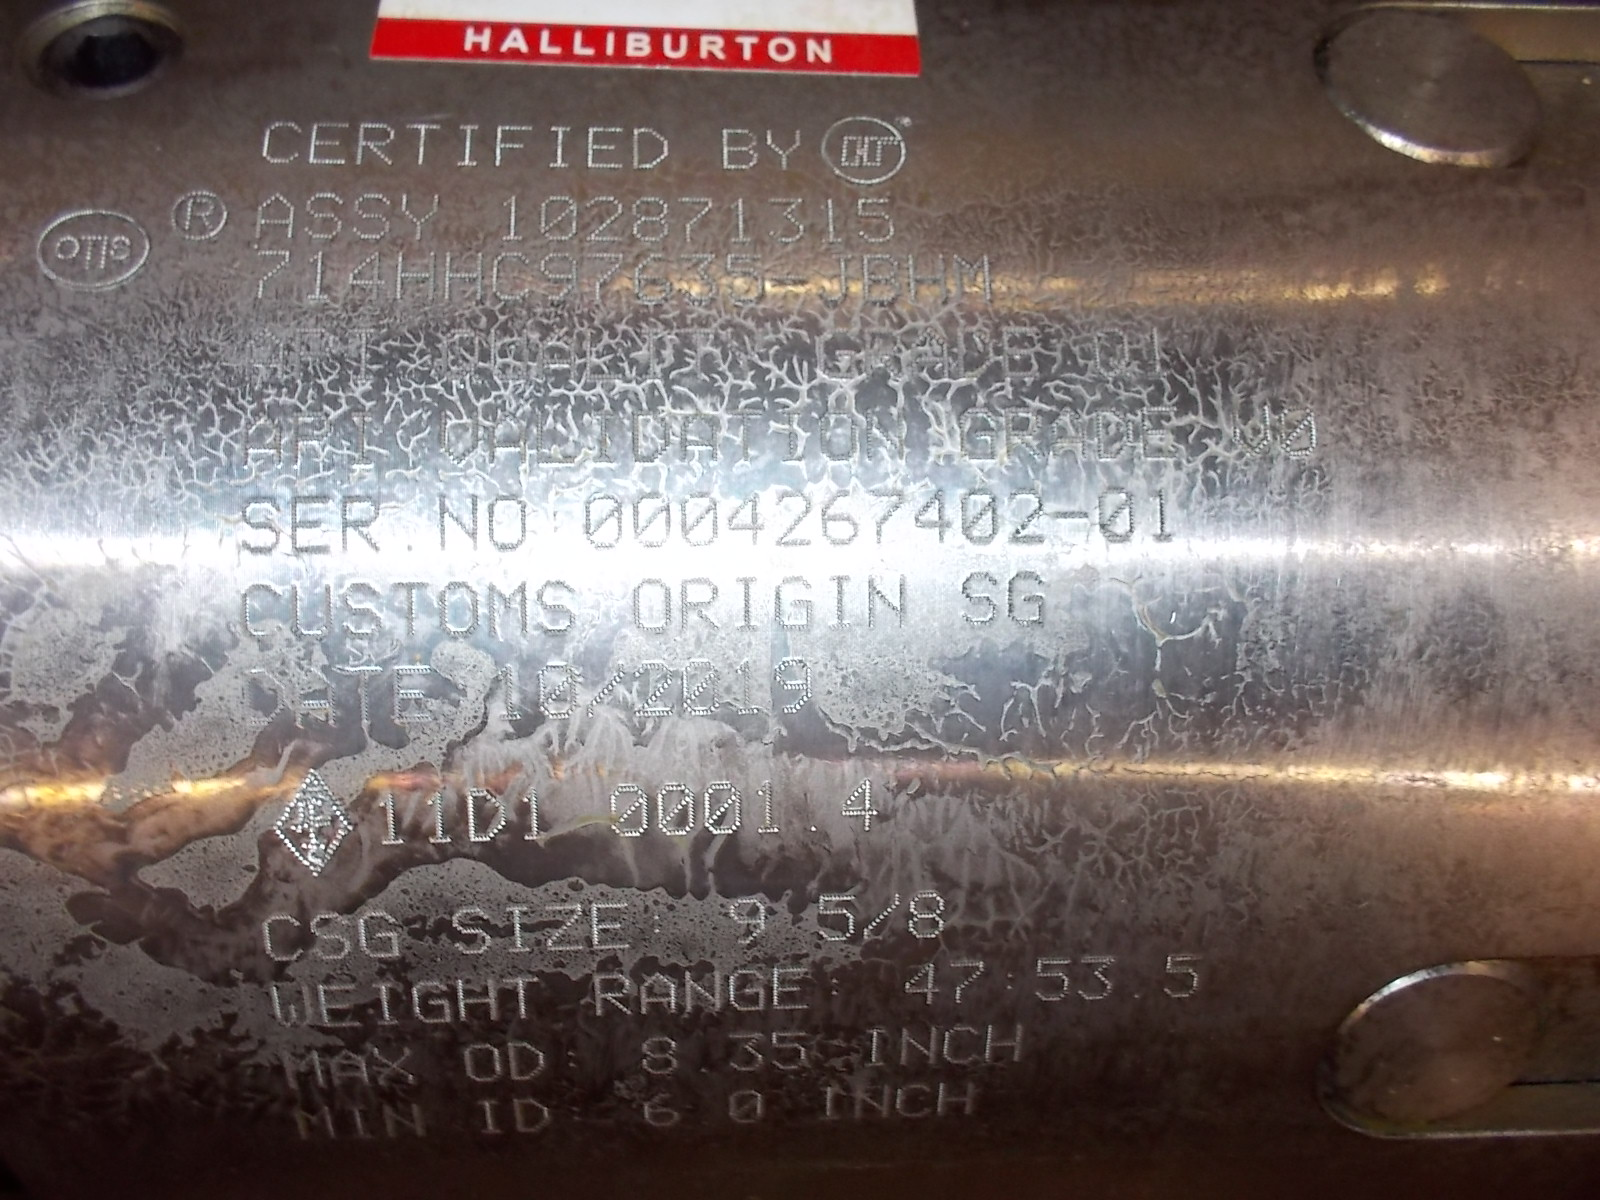character: (528, 655, 585, 729), (285, 488, 336, 563), (231, 492, 285, 563), (1133, 395, 1186, 468), (765, 567, 821, 635), (238, 321, 292, 392), (454, 784, 515, 846), (386, 661, 438, 731), (236, 575, 282, 653), (1002, 566, 1054, 634), (627, 658, 677, 731), (335, 661, 386, 731), (530, 405, 583, 471), (233, 663, 286, 730), (430, 401, 481, 469), (334, 575, 386, 643), (282, 575, 334, 643), (997, 318, 1049, 383), (289, 406, 341, 471), (627, 570, 677, 640), (292, 323, 341, 392), (677, 571, 726, 640), (767, 650, 816, 720), (484, 320, 537, 384), (670, 321, 721, 388), (674, 407, 729, 468), (583, 655, 627, 731), (386, 575, 437, 639), (1094, 480, 1141, 550), (236, 405, 286, 470), (289, 661, 335, 731), (813, 403, 862, 470), (860, 567, 913, 629), (336, 488, 384, 556), (485, 572, 533, 640), (580, 321, 631, 384), (483, 492, 534, 555), (1003, 483, 1049, 552), (437, 904, 494, 961), (247, 247, 302, 305), (1089, 324, 1141, 384), (580, 488, 627, 555), (437, 572, 485, 639), (957, 562, 1002, 634), (260, 979, 317, 1034), (907, 483, 955, 548), (955, 483, 1003, 548), (1157, 945, 1209, 1005), (622, 407, 674, 468), (860, 483, 907, 550), (587, 890, 632, 958), (481, 405, 529, 469), (532, 901, 586, 958), (396, 187, 449, 245), (862, 405, 908, 470), (700, 774, 747, 839), (769, 488, 819, 548), (677, 658, 727, 718), (603, 780, 654, 841), (721, 250, 769, 313), (906, 321, 954, 384), (954, 403, 1002, 466), (1230, 400, 1276, 464), (673, 490, 723, 550), (626, 248, 675, 309), (809, 321, 858, 382), (433, 489, 483, 550), (484, 659, 527, 729), (1276, 397, 1320, 464), (389, 248, 443, 303), (273, 1040, 328, 1094), (351, 913, 406, 967), (837, 775, 886, 834), (585, 966, 634, 1025), (721, 192, 769, 252), (368, 1042, 428, 1090), (336, 248, 389, 303), (249, 913, 304, 966), (954, 318, 997, 384), (724, 892, 770, 955), (305, 113, 354, 171), (488, 246, 537, 304), (770, 963, 819, 1021), (354, 113, 402, 173), (1043, 405, 1091, 464), (344, 323, 388, 387), (627, 490, 671, 555), (766, 403, 813, 464), (441, 320, 484, 386), (726, 567, 765, 639), (530, 192, 583, 245), (533, 579, 578, 640), (489, 120, 540, 174), (249, 188, 299, 245), (346, 188, 396, 245), (816, 487, 860, 550), (951, 247, 999, 305), (674, 193, 721, 252), (654, 780, 700, 839), (634, 966, 680, 1025), (515, 782, 558, 846), (723, 489, 769, 550), (727, 650, 767, 718), (906, 884, 951, 944), (580, 120, 631, 173), (853, 190, 903, 245), (537, 250, 587, 304), (404, 976, 455, 1030), (902, 250, 951, 305), (299, 188, 346, 245), (814, 887, 860, 945), (860, 321, 903, 384), (537, 321, 580, 384), (677, 250, 721, 310), (722, 326, 766, 387), (625, 193, 674, 247), (821, 567, 860, 635), (258, 115, 305, 171), (455, 976, 501, 1032), (341, 406, 380, 473), (1141, 483, 1180, 550), (509, 1088, 557, 1142), (413, 784, 454, 848), (402, 117, 449, 173), (860, 887, 906, 944), (1002, 405, 1043, 466), (501, 969, 546, 1027), (859, 250, 902, 309), (765, 192, 813, 245), (891, 1020, 939, 1073), (304, 913, 351, 966), (816, 250, 858, 310), (586, 248, 626, 310), (719, 1087, 777, 1129), (714, 124, 763, 174), (934, 1075, 984, 1124), (454, 1039, 504, 1088), (717, 1029, 765, 1080), (631, 321, 670, 384), (443, 248, 488, 304), (583, 402, 619, 471), (290, 1102, 345, 1146), (317, 978, 362, 1034), (944, 955, 989, 1008), (724, 963, 770, 1016), (750, 773, 787, 836), (1073, 955, 1120, 1006), (504, 1037, 551, 1088), (848, 1076, 892, 1129), (1091, 405, 1130, 464), (583, 192, 625, 247), (634, 1031, 682, 1079), (373, 788, 411, 848), (494, 901, 532, 961), (382, 1097, 427, 1146), (769, 1026, 813, 1076), (939, 1020, 983, 1070), (631, 120, 674, 171), (362, 978, 404, 1030), (813, 190, 853, 245), (632, 1089, 687, 1129), (449, 117, 488, 173), (763, 124, 806, 174), (682, 966, 724, 1016), (1141, 321, 1175, 384), (983, 1022, 1027, 1070), (901, 959, 944, 1008), (465, 1089, 506, 1139), (328, 1042, 368, 1094), (729, 407, 766, 464), (1032, 955, 1073, 1005), (540, 120, 578, 173), (892, 1076, 934, 1124), (494, 192, 530, 245), (808, 1082, 848, 1129), (302, 248, 336, 305), (855, 1022, 891, 1073), (345, 1102, 380, 1145), (763, 272, 813, 292), (1044, 505, 1094, 526), (563, 1094, 588, 1124), (649, 913, 671, 939), (558, 1046, 580, 1069), (1000, 968, 1017, 995), (826, 976, 842, 1000), (808, 822, 821, 836), (1130, 991, 1143, 1005), (695, 1065, 707, 1078), (404, 545, 414, 555)
